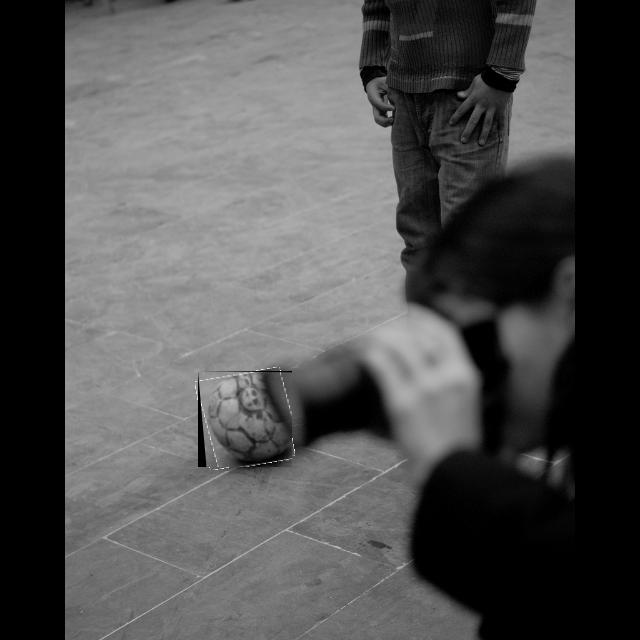Football: (198, 371, 292, 467)
